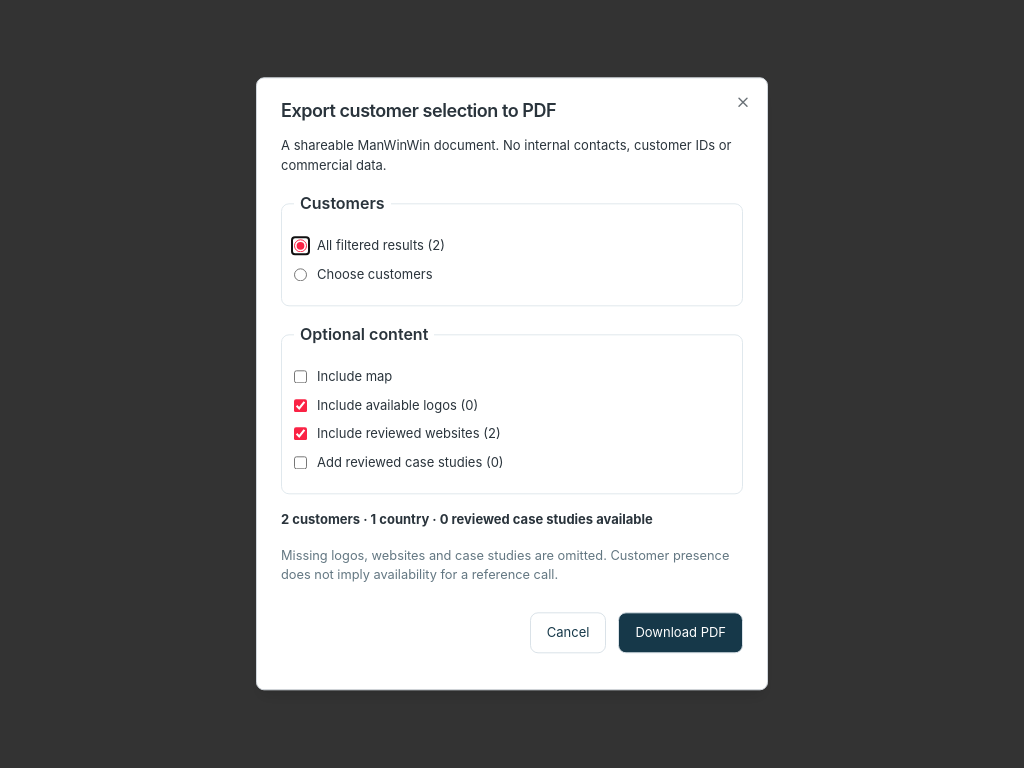
Test case: Customer PDF export › blocks a stale selection after a customer is hidden
Click the button "Download PDF" at (681, 633), box [618, 612, 743, 654]
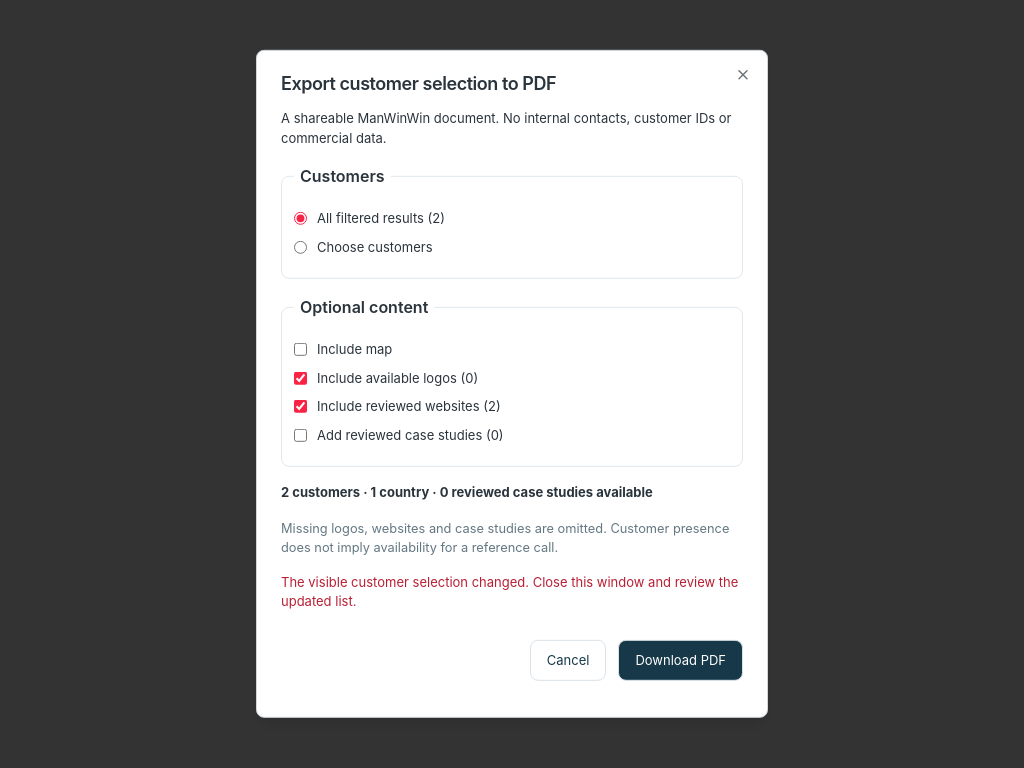
Result: the 2nd message shows "selection changed" at [281, 574, 738, 609]
